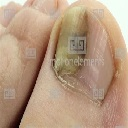Nail Fungal Infection: (57, 11, 91, 78)
